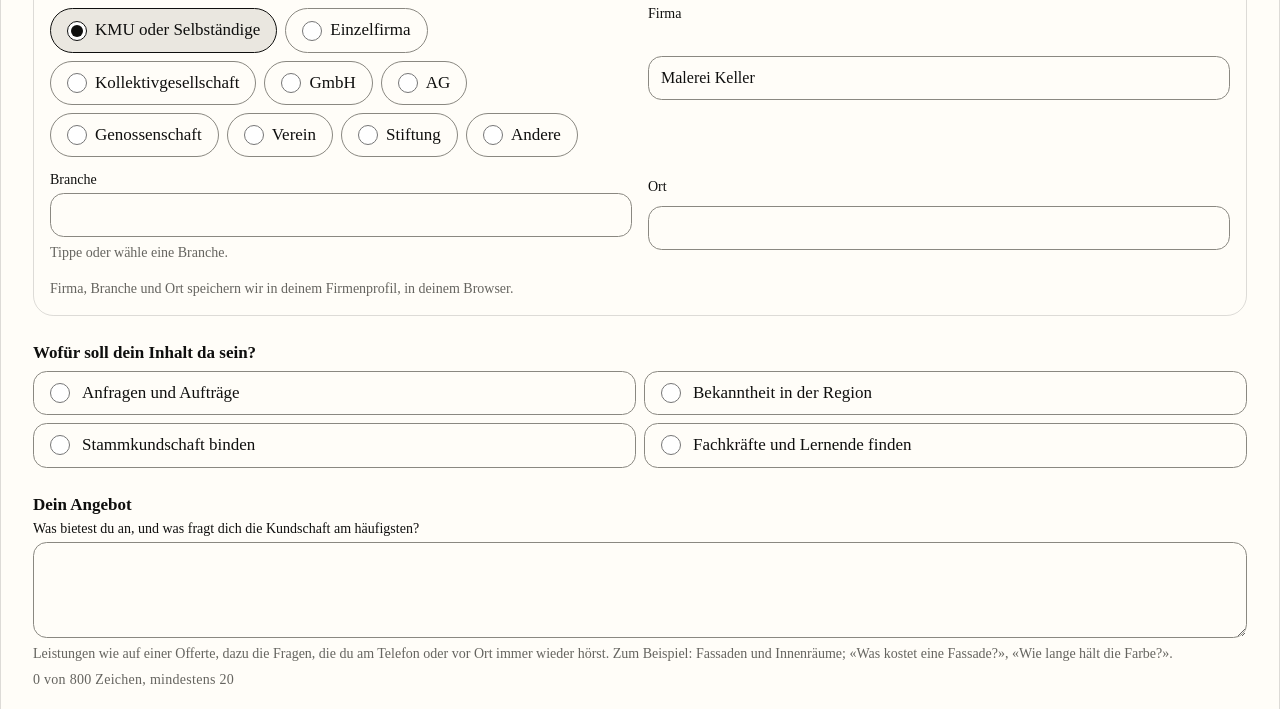
Test: Inhaltsstrategie im Browser › meldet, wenn kein Kanal gewählt ist
(page scrolled)
Step 1. Click the radio button labelled "Anfragen und Aufträge" → (60, 393), box [50,383,70,403]
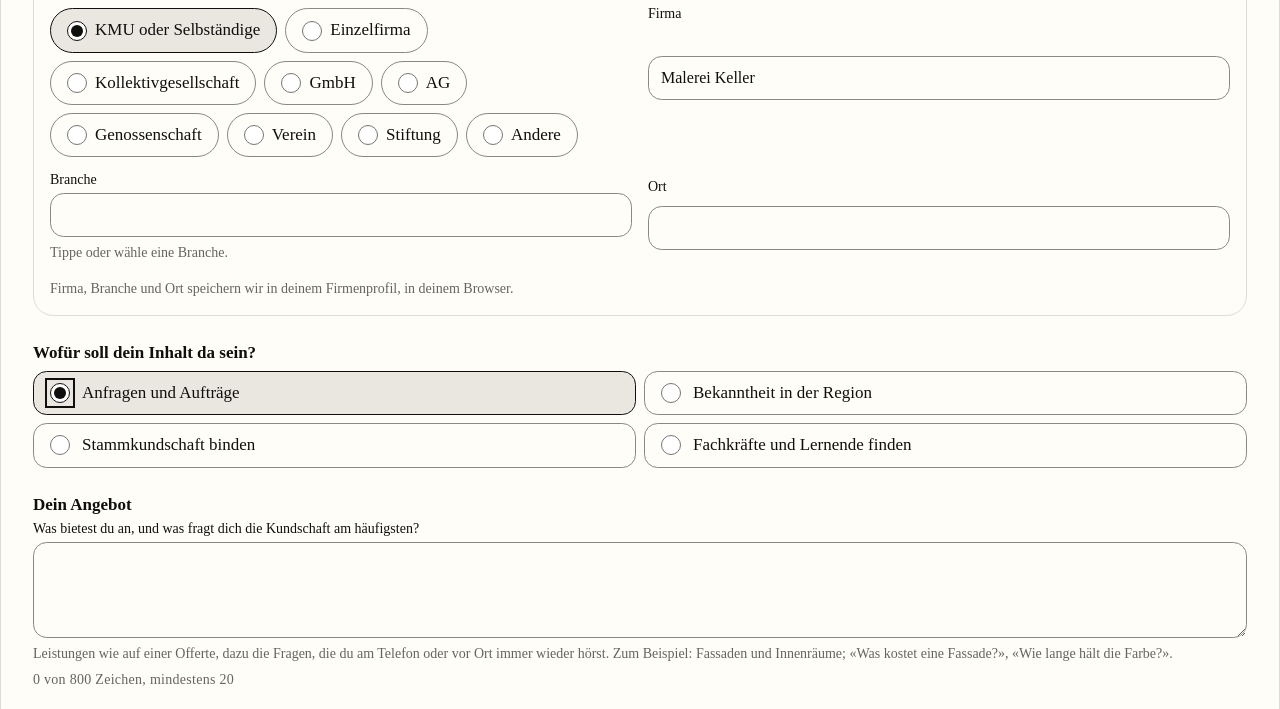
Step 2. Click the text box labelled "Was bietest du an, und was fragt dich die Kundschaft am häufigsten?" → (640, 590), box [33,542,1247,638]
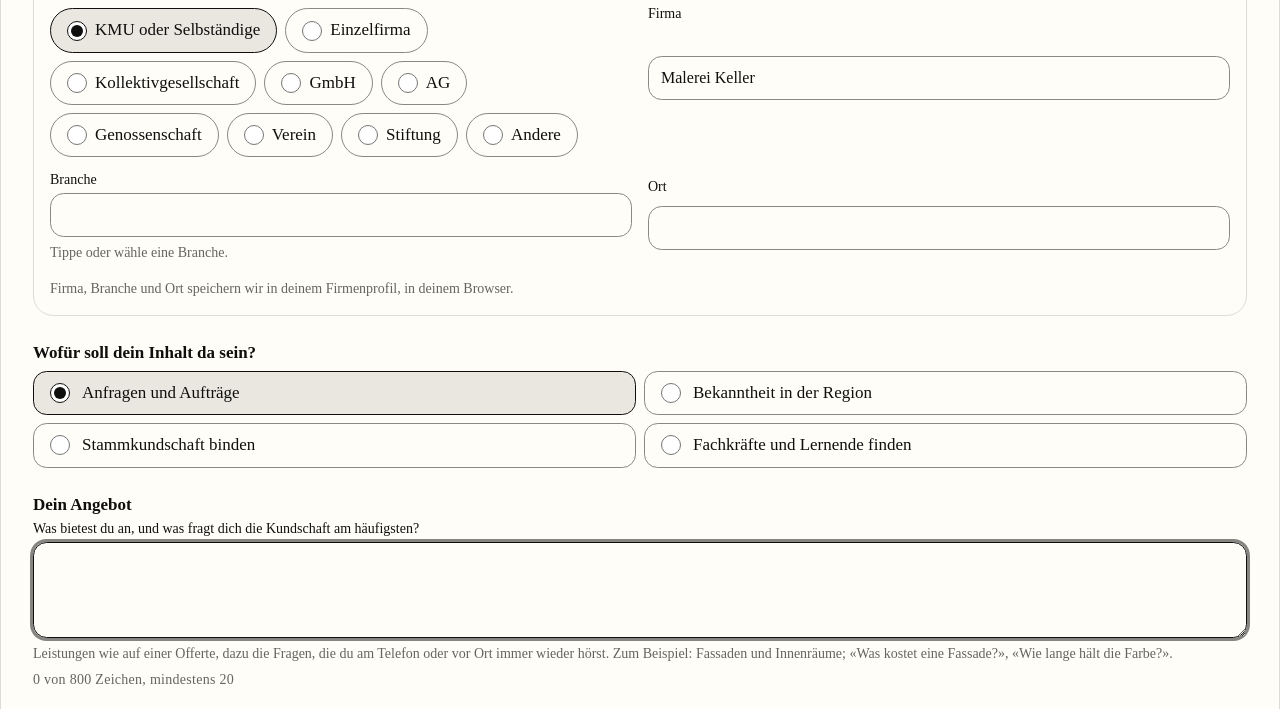
Step 3. Type keys "Fassaden und Innenräume streichen, Farbberatung vor Ort. Fragen: Was kostet eine Fassade? Wie lange hält die Farbe?"
(page scrolled)
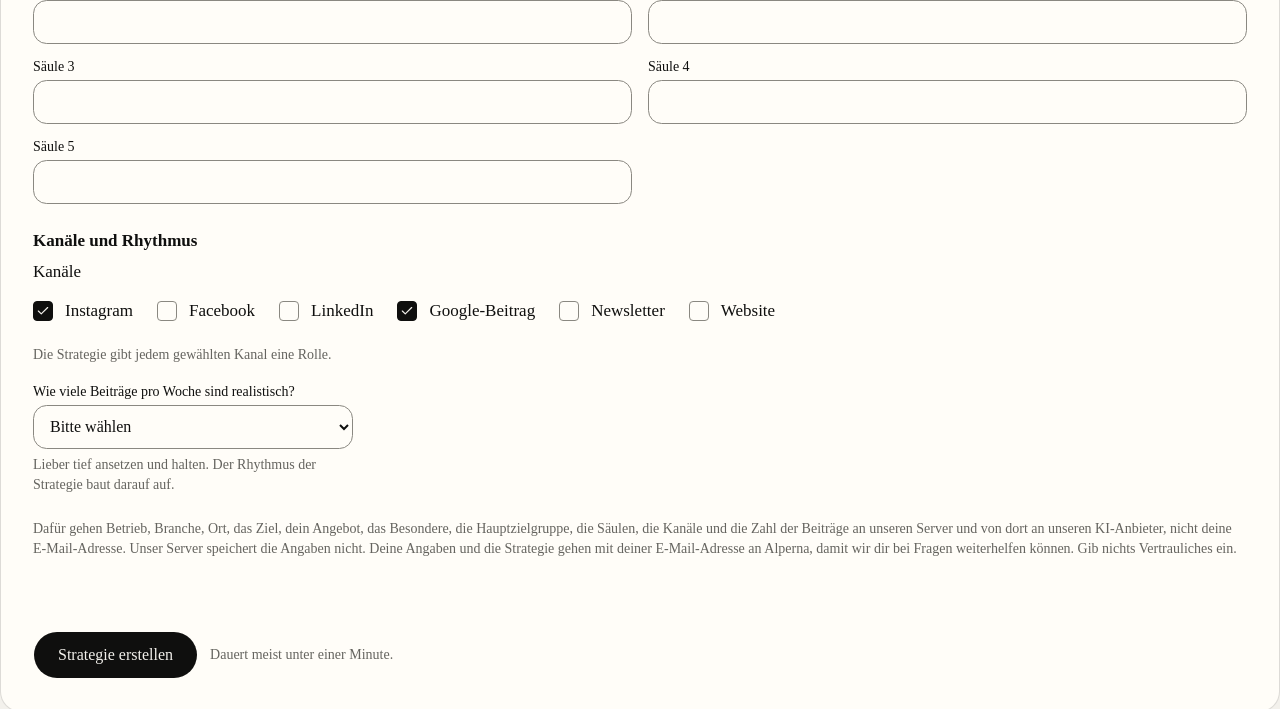
Step 4. Select "2 Beiträge pro Woche" in the dropdown labelled "Wie viele Beiträge pro Woche sind realistisch?" → (193, 427), box [33,405,353,449]
Step 5. Click the checkbox named "Instagram" → (43, 311), box [33,301,53,321]
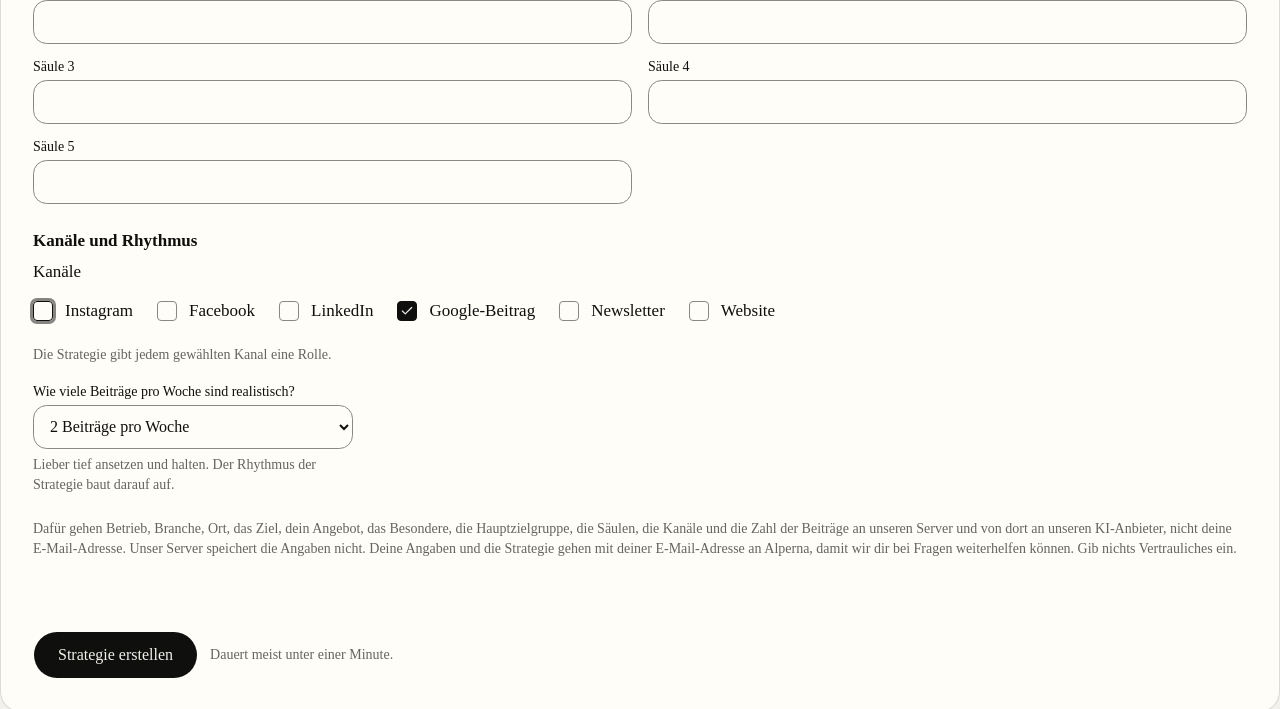
Step 6. Click the checkbox named "Google-Beitrag" → (407, 311), box [397,301,417,321]
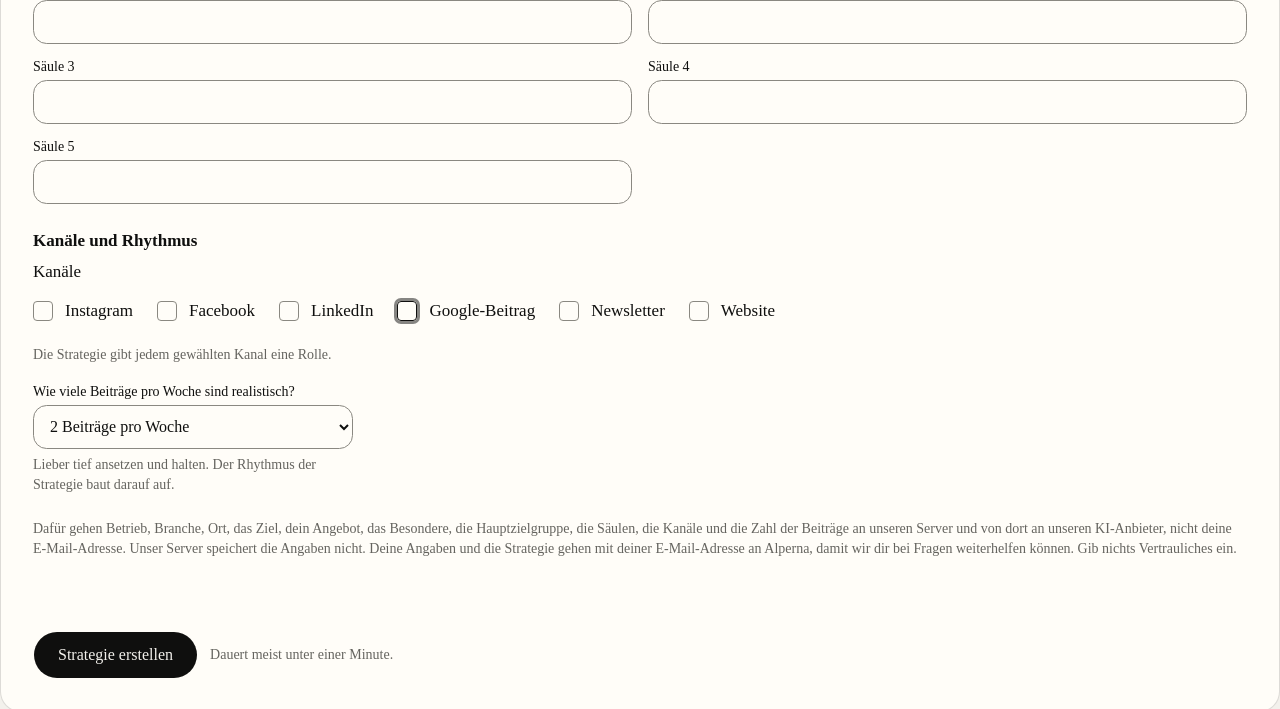
Step 7. Click the button "Strategie erstellen" → (116, 655), box [33,631,198,679]
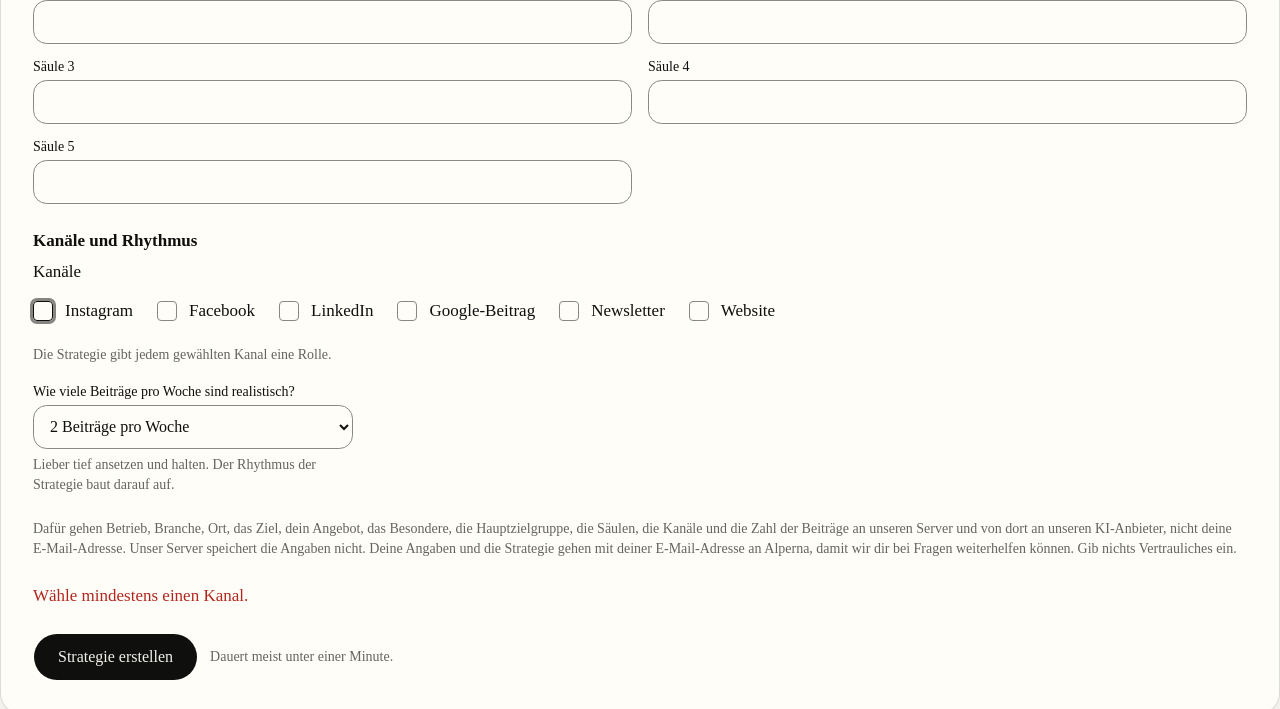
Check: the message reads "Wähle mindestens einen Kanal.", box [33,586,248,605]
